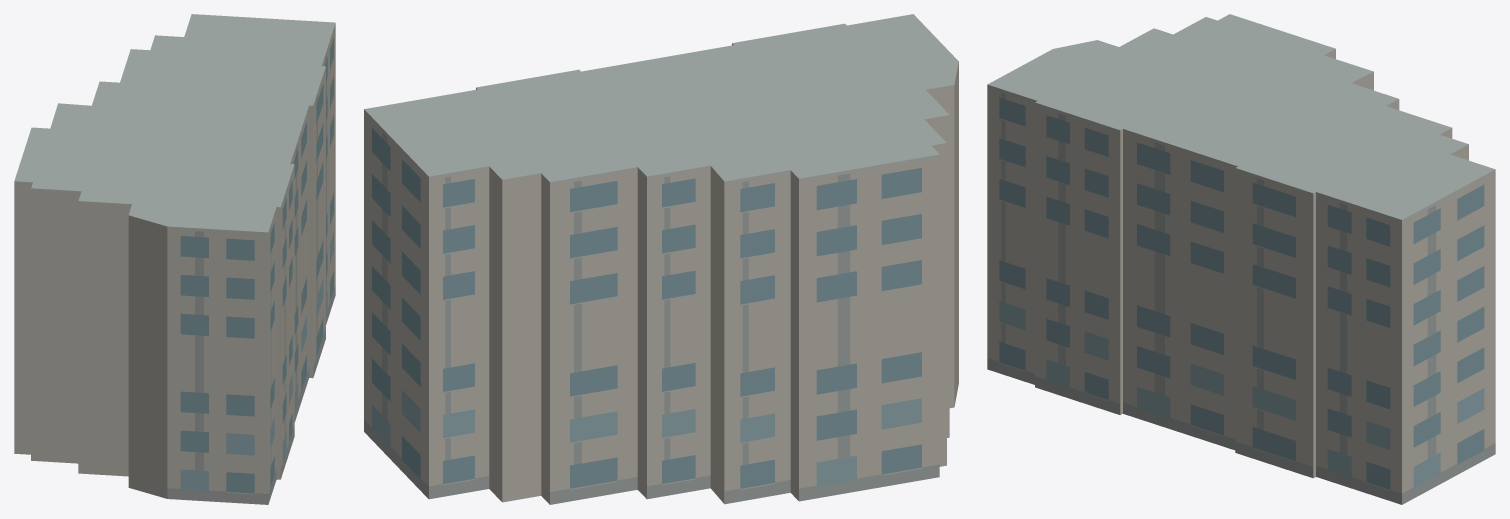
The model's file is survey-upis-32859860.glb.
The picture shows the model from 3 angles, left to right: view 1: azimuth 30°, elevation 25°; view 2: azimuth 150°, elevation 25°; view 3: azimuth 270°, elevation 25°; orthographic projection. The views are drawn at different scales.
Visible parts, largest first — view 1: survey-upis-32859860.tmp; view 2: survey-upis-32859860.tmp; view 3: survey-upis-32859860.tmp.
Boxes of the visible parts, x1,y1,x2,y2 form: survey-upis-32859860.tmp: (14, 14, 335, 504); survey-upis-32859860.tmp: (364, 14, 958, 504); survey-upis-32859860.tmp: (987, 14, 1495, 504).
Size of the model in its own units: 33.07 by 21.32 by 34.47.
